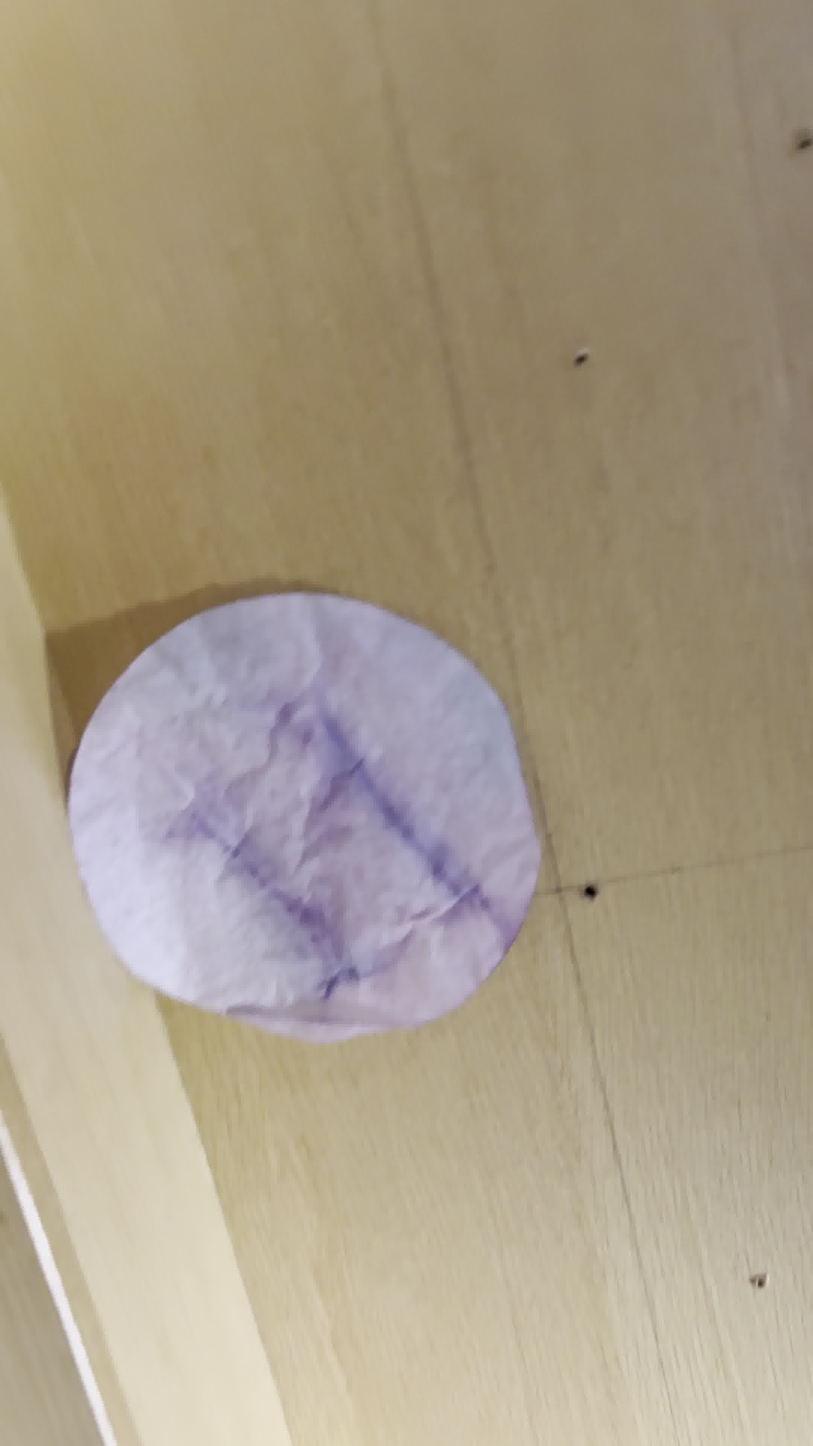Target: (70, 592, 539, 1040)
